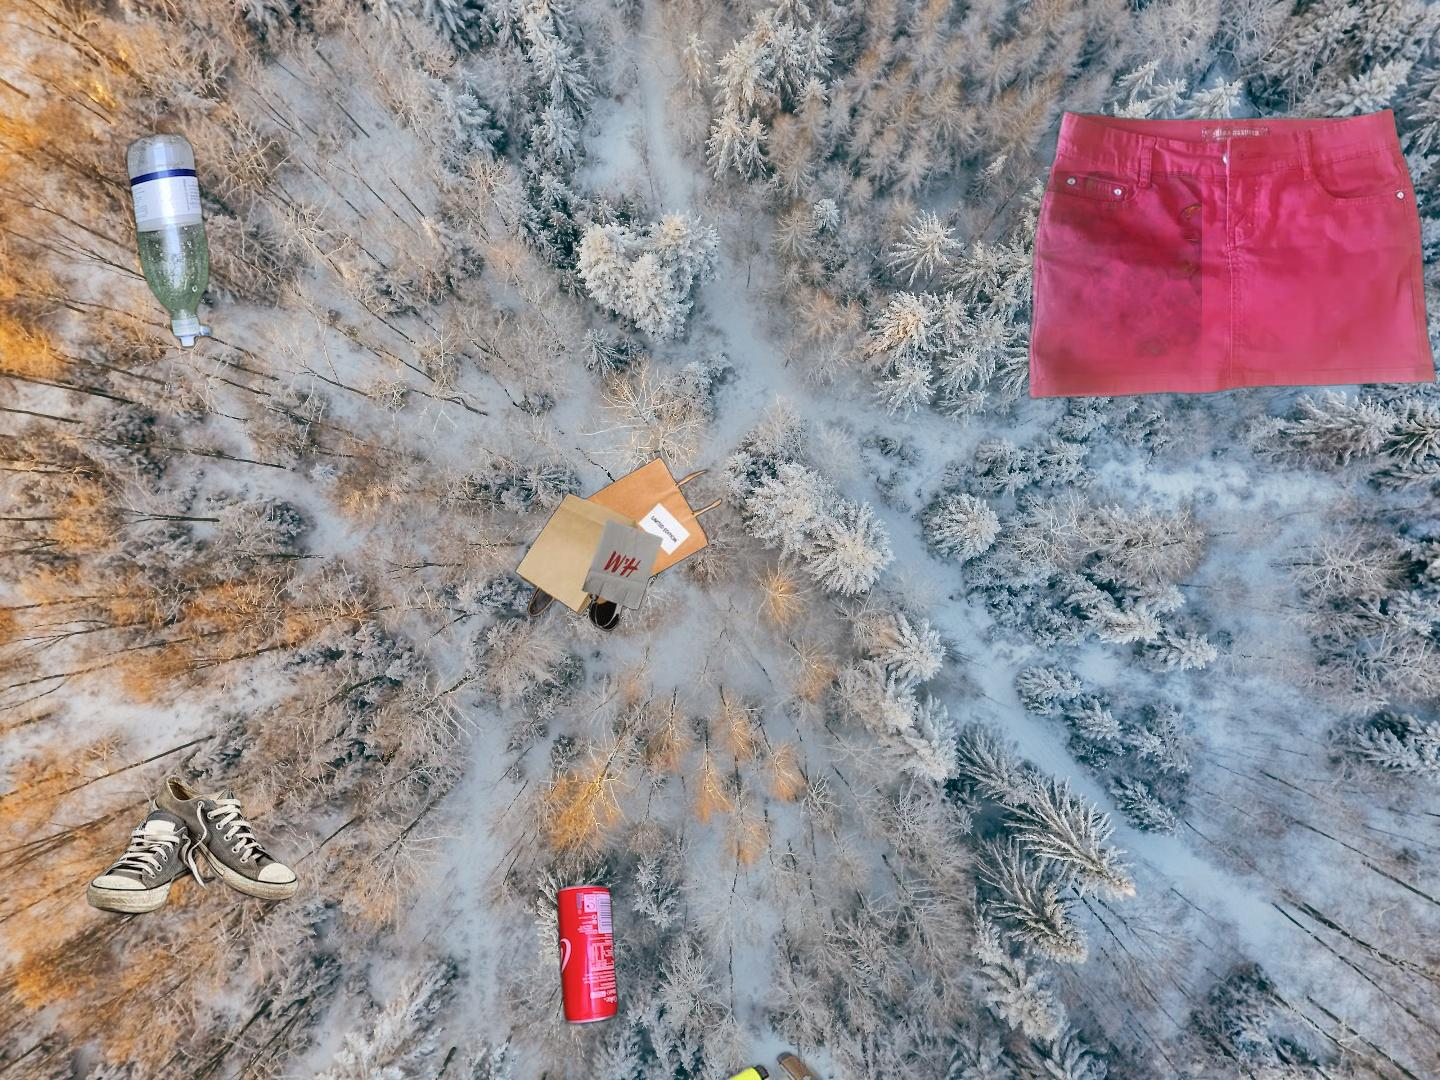biological: (954, 171, 1202, 374)
clothes: (1024, 104, 1440, 402)
metal-cans: (552, 877, 622, 1030)
paper-bag: (513, 456, 725, 635)
penholder: (657, 875, 1239, 1080)
plastic-bottles: (122, 128, 217, 353)
shoes: (84, 770, 302, 923)
